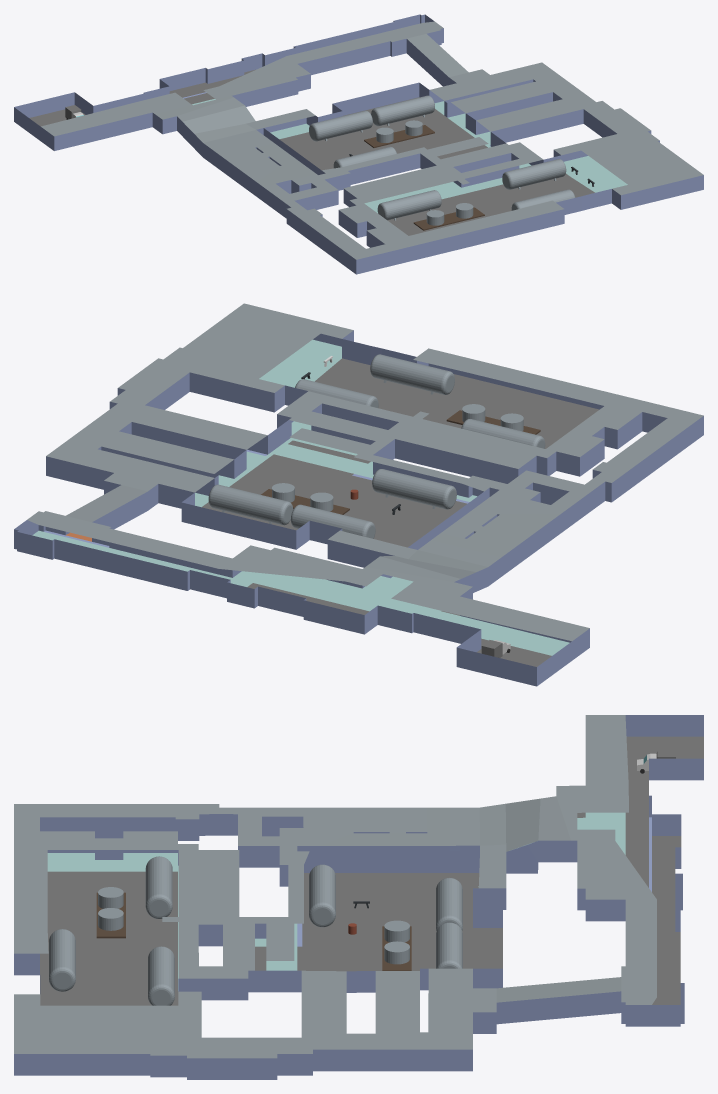
The model's file is mapa.fbx.
The picture shows the model from 3 angles, top to bottom: view 1: azimuth 30°, elevation 25°; view 2: azimuth 150°, elevation 25°; view 3: azimuth 270°, elevation 25°; orthographic projection. The views are drawn at different scales.
Parts seen in each view (by area): view 1: Plane, Cylinder.008, Cylinder.007, Cylinder.005, Cylinder, Cylinder.006, Cylinder.009, Plane.001, Plane.002; view 2: Plane, Cylinder.006, Cylinder.009, Cylinder.005, Cylinder.007, Cylinder, Cylinder.008; view 3: Plane, Cylinder, Cylinder.006, Cylinder.009, Cylinder.008, Cylinder.007, Cylinder.005.
Part boxes in pixels (bbox=[...]): Plane: bbox=[14, 14, 703, 274]; Cylinder.008: bbox=[502, 159, 566, 189]; Cylinder.007: bbox=[309, 110, 372, 141]; Cylinder.005: bbox=[371, 95, 434, 126]; Cylinder: bbox=[377, 190, 441, 220]; Cylinder.006: bbox=[333, 146, 396, 168]; Cylinder.009: bbox=[511, 189, 575, 210]; Plane.001: bbox=[364, 125, 434, 147]; Plane.002: bbox=[413, 207, 484, 230]; Plane: bbox=[14, 303, 703, 686]; Cylinder.006: bbox=[372, 469, 456, 509]; Cylinder.009: bbox=[370, 354, 454, 394]; Cylinder.005: bbox=[208, 484, 293, 525]; Cylinder.007: bbox=[291, 504, 375, 538]; Cylinder: bbox=[461, 419, 545, 448]; Cylinder.008: bbox=[295, 379, 378, 407]; Plane: bbox=[14, 715, 703, 1079]; Cylinder: bbox=[145, 856, 172, 918]; Cylinder.006: bbox=[309, 864, 335, 927]; Cylinder.009: bbox=[49, 929, 75, 991]; Cylinder.008: bbox=[148, 946, 174, 1005]; Cylinder.007: bbox=[436, 878, 462, 930]; Cylinder.005: bbox=[436, 922, 462, 968].
Size of the model in its own units: 971 by 54.95 by 854.
